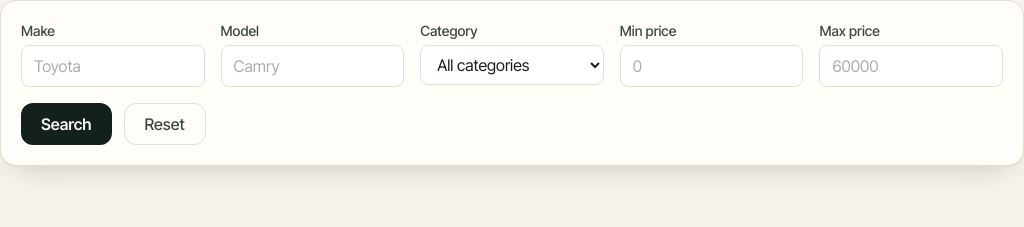
Test case: SearchFilters › blocks a search where min price exceeds max price
This screenshot has width=1024, height=227.
Type "500" into the number field labelled "Min price" at x=712, y=66, box [620,45,803,87]
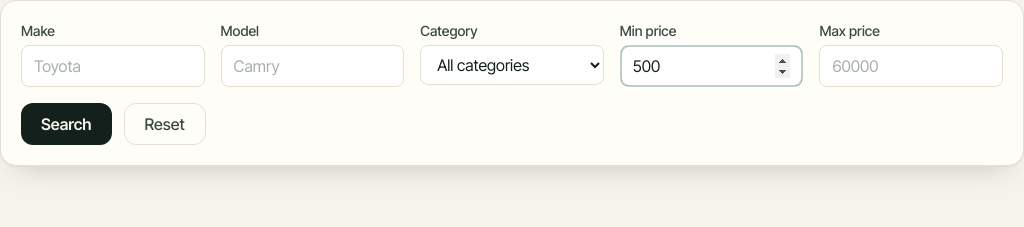
Type "100" into the number field labelled "Max price" at x=911, y=66, box [819,45,1003,87]
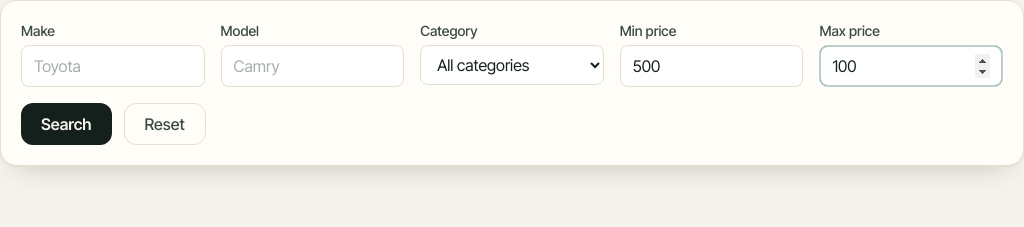
Click the button "Search" at x=66, y=124, box [21,103,112,145]
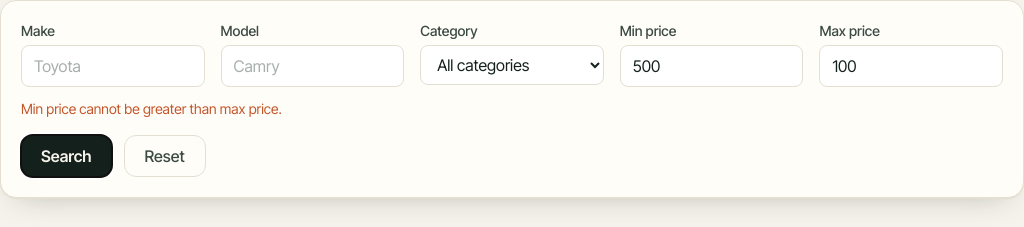
Result: the message shows "Min price" at [21,100,282,117]
